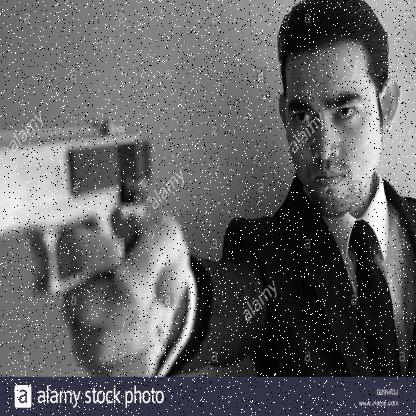pistol: (0, 114, 158, 299)
